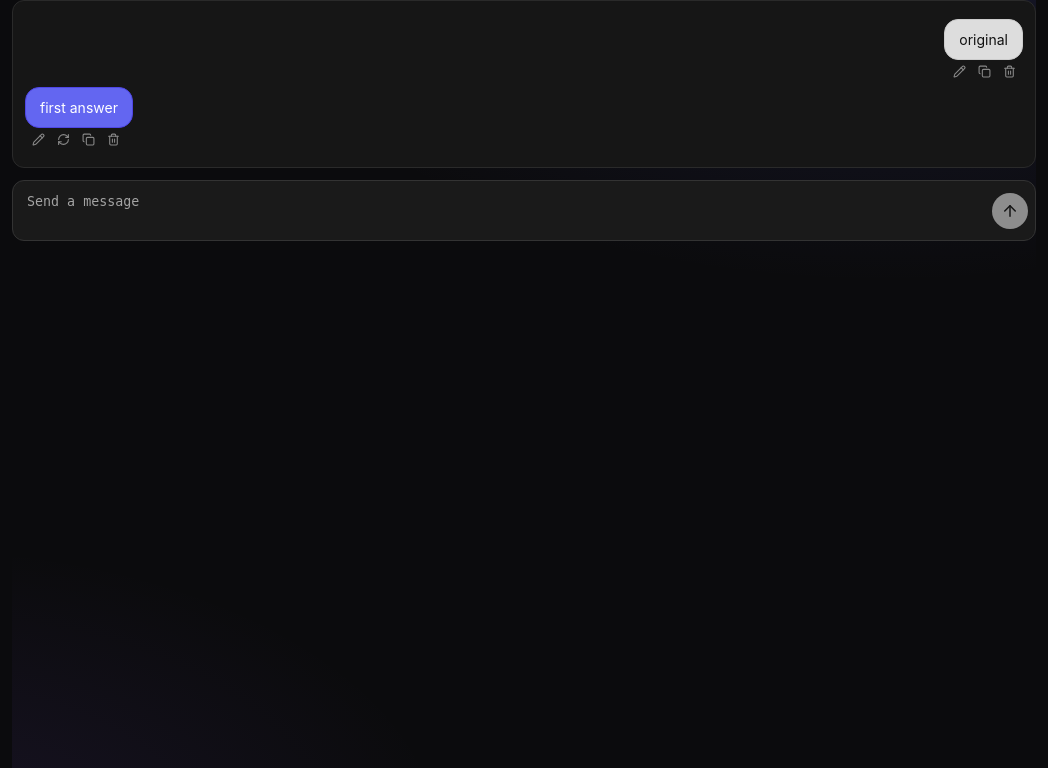
Scenario: Chorus editableRoles › keeps edit-and-resend for user messages even when assistant editing is enabled
The image size is (1048, 768).
# Edit the user row (first Edit button) — this must still truncate + resend.
Click the button titled "Edit" below "original" at (960, 72), box [948,62,971,81]
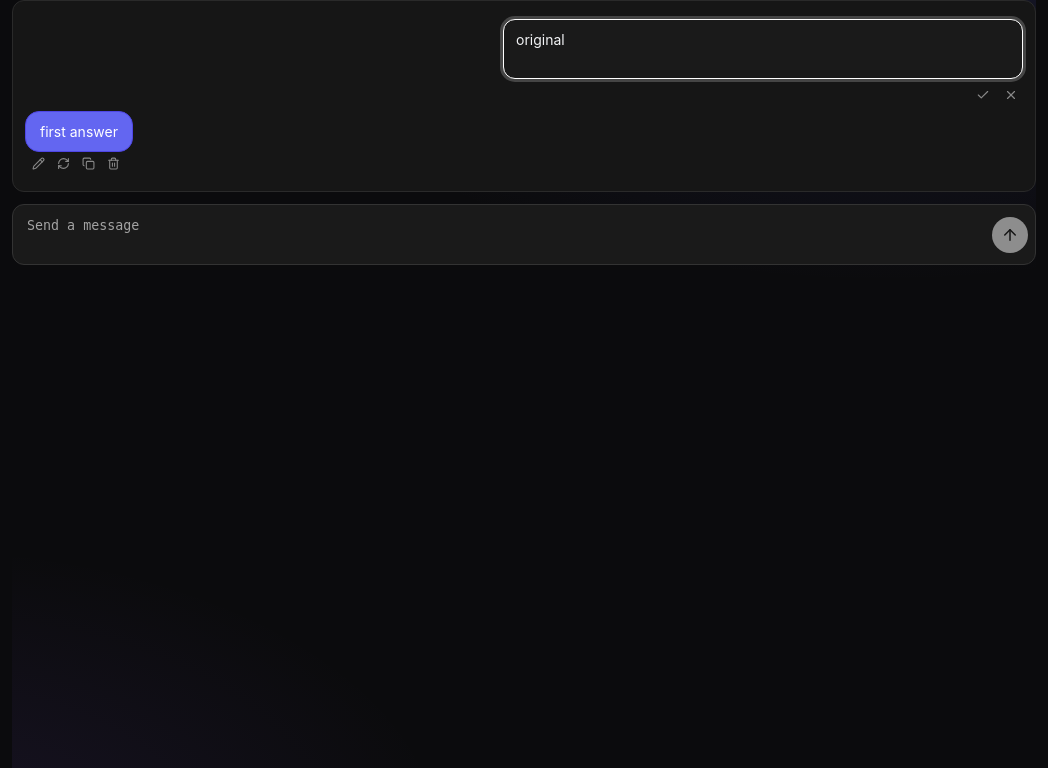
Replace the text in the text box showing "original" with "edited" at (763, 49), box [503,19,1023,79]
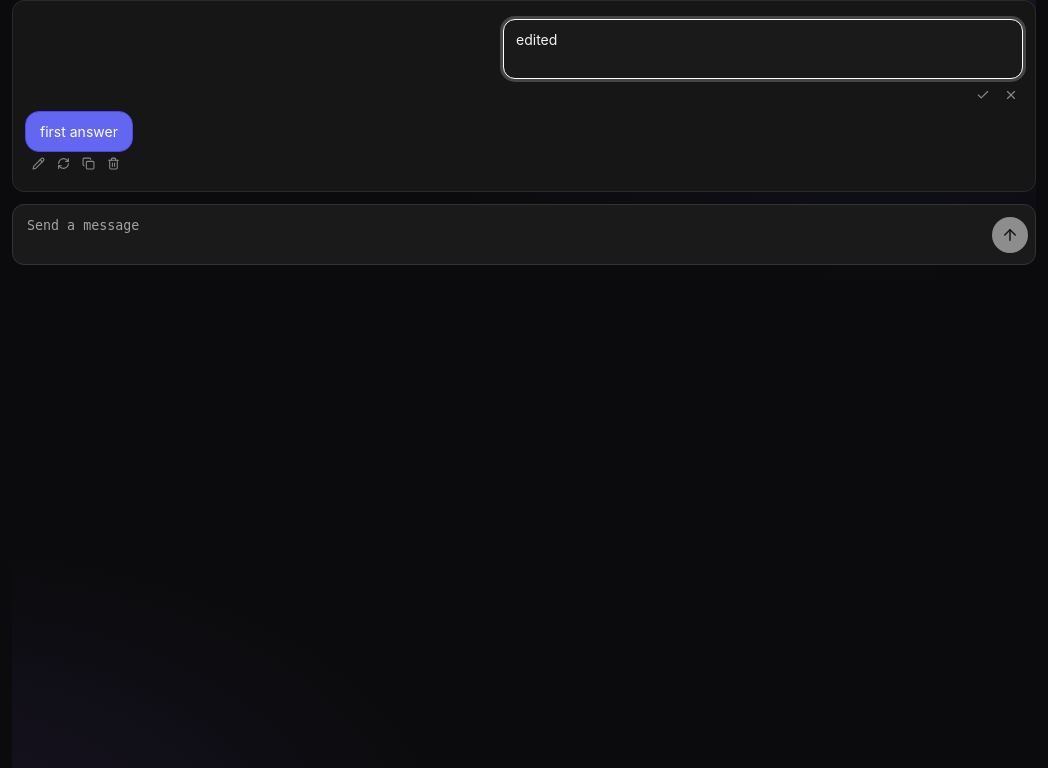
Click the button titled "Save" at (983, 95), box [971,85,995,105]
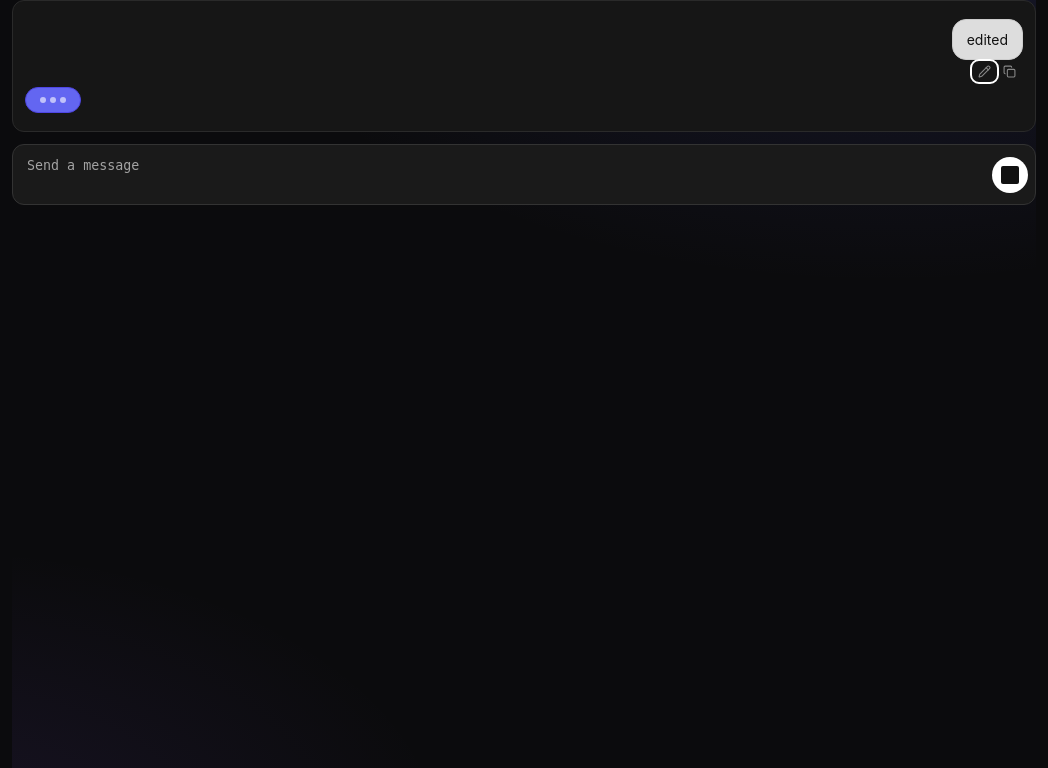
Check: the text "edited" is shown, box [967,29,1008,50]
Check: the text "first answer" is gone
